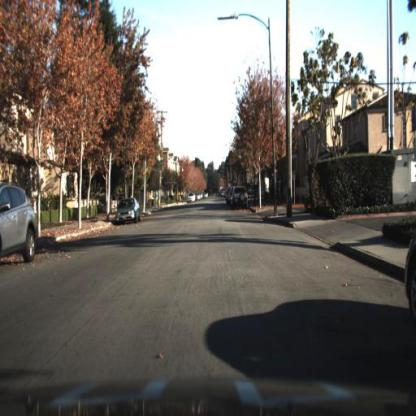car: (1, 180, 39, 266), (114, 195, 143, 226), (231, 186, 251, 210), (185, 192, 198, 206)
